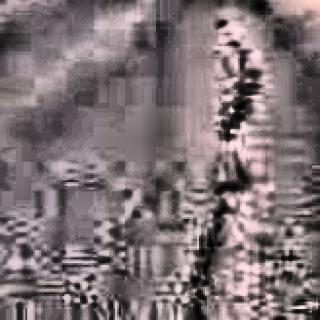crack: (181, 1, 263, 320)
